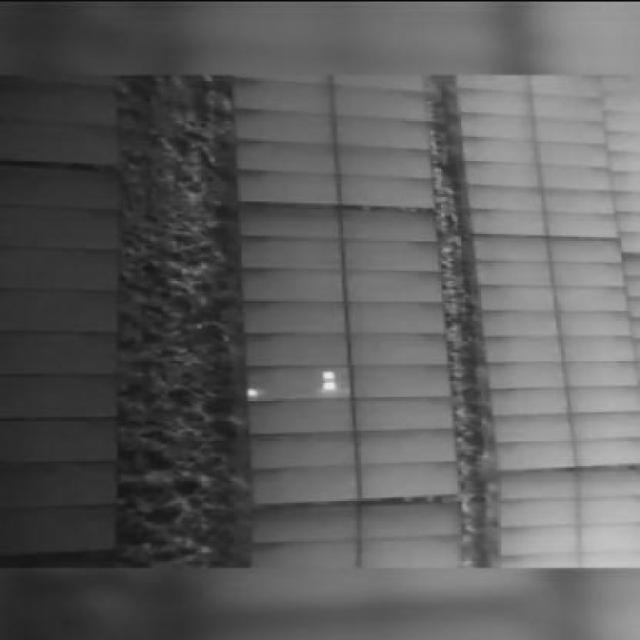hotspot: (244, 385, 265, 397), (317, 369, 338, 378), (321, 378, 337, 388)
